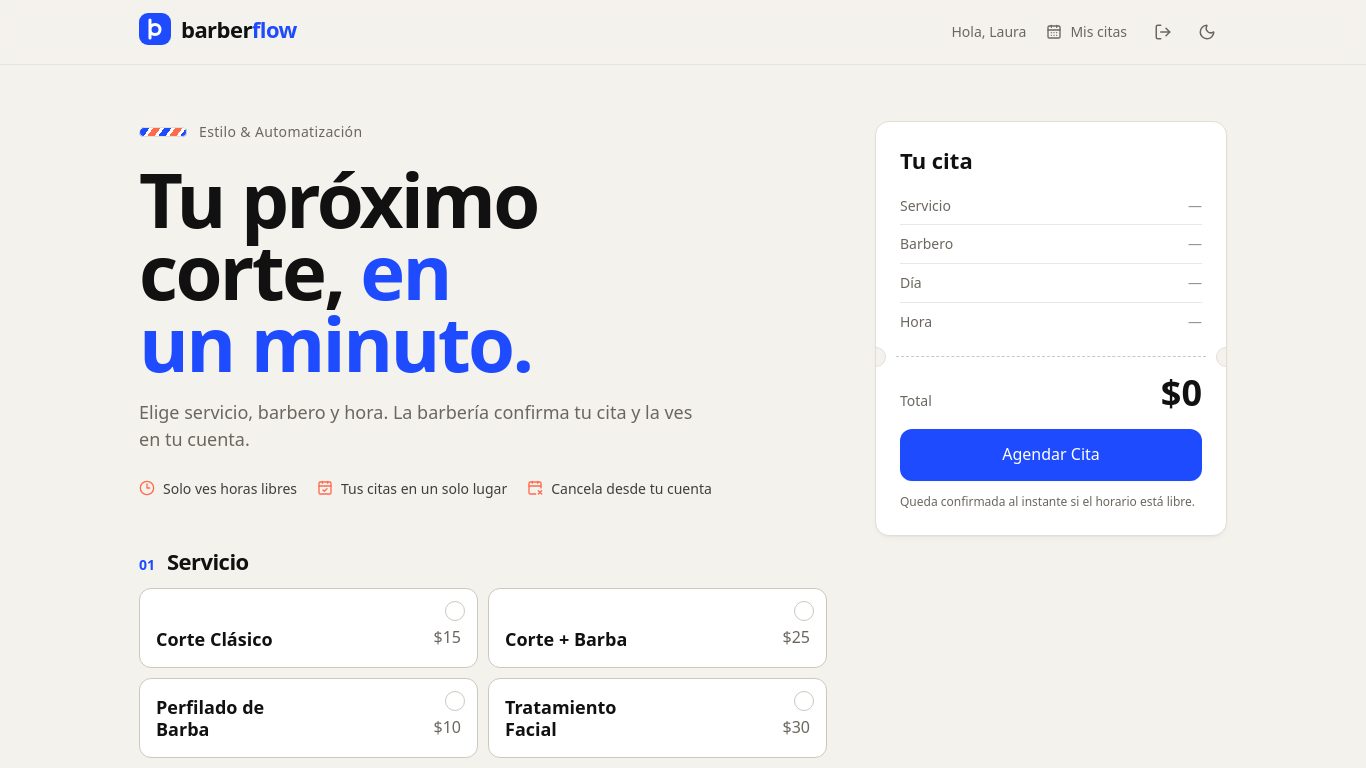
reserva con sesión › crea la cita confirmada en Firestore con los datos del perfil
This screenshot has width=1366, height=768.
Click the radio button labelled "Corte + Barba $25" at (566, 639), box [488, 588, 827, 668]
(page scrolled)
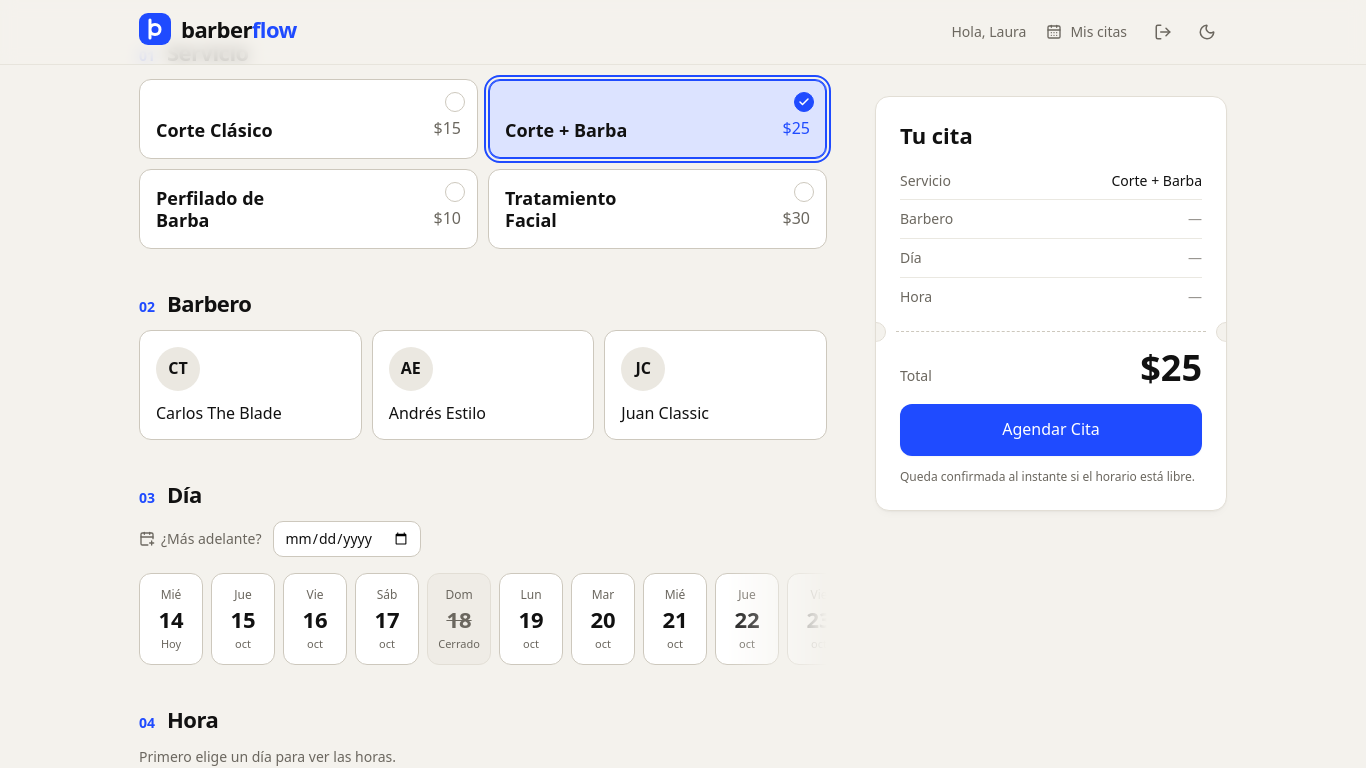
Click the radio button labelled "Andrés Estilo" at (483, 385), box [372, 330, 594, 440]
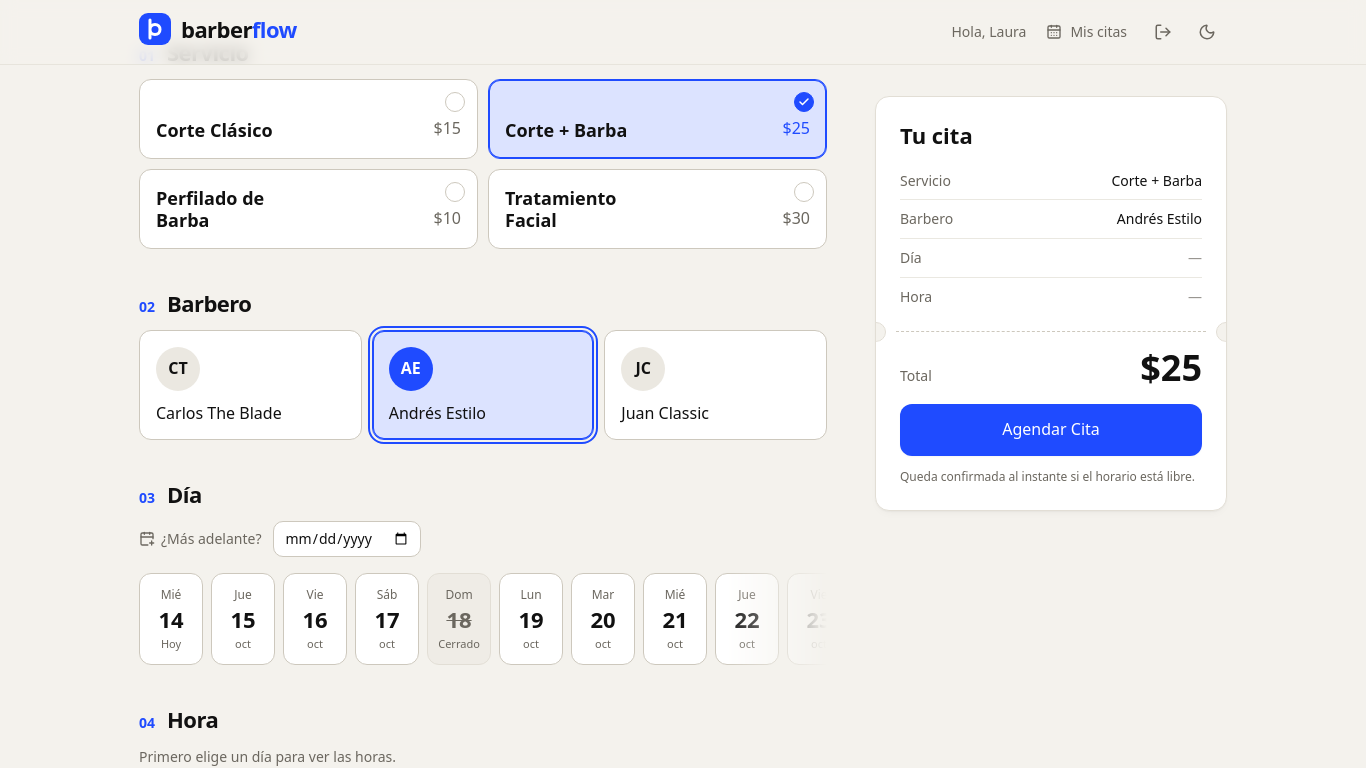
Click the radio button with aria-label "jueves 15 de octubre" at (243, 619), box [211, 572, 275, 665]
(page scrolled)
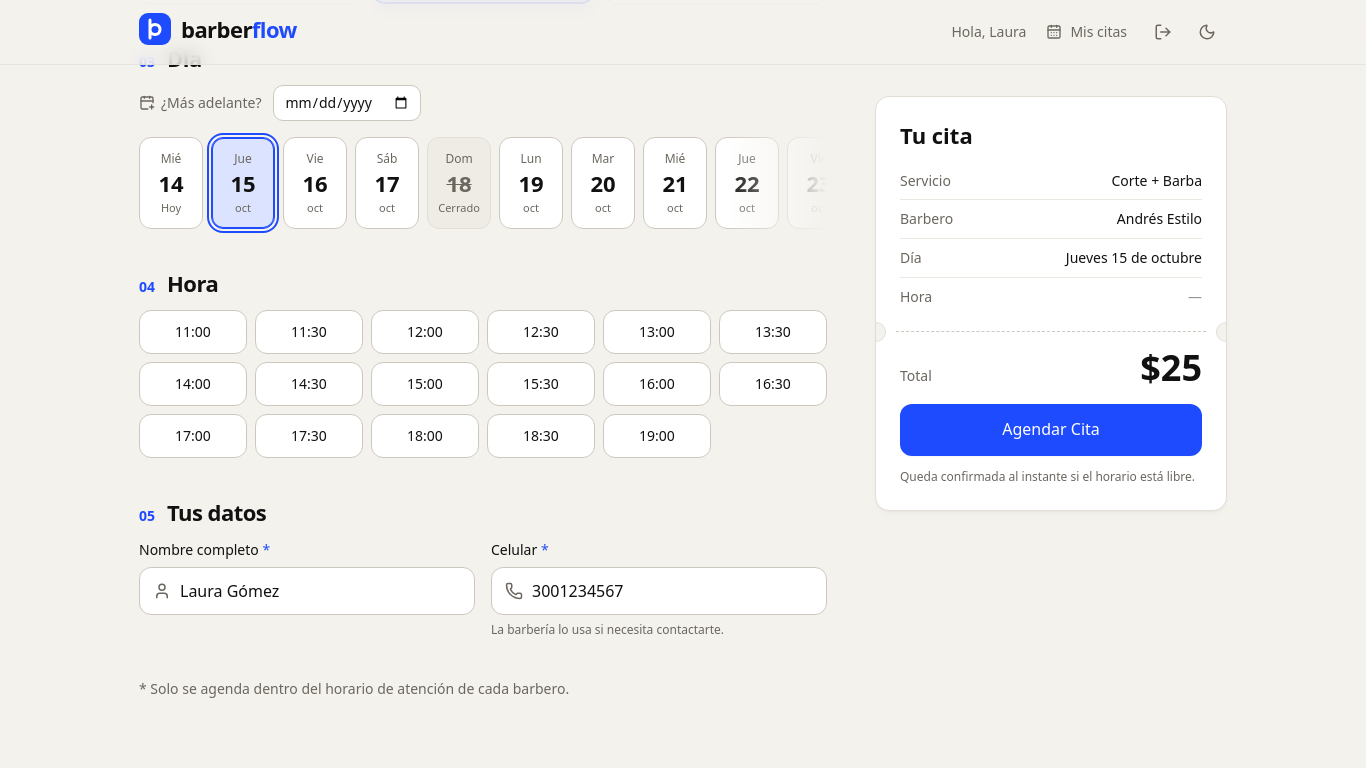
Click the radio button labelled "16:30" at (773, 384), box [719, 362, 827, 406]
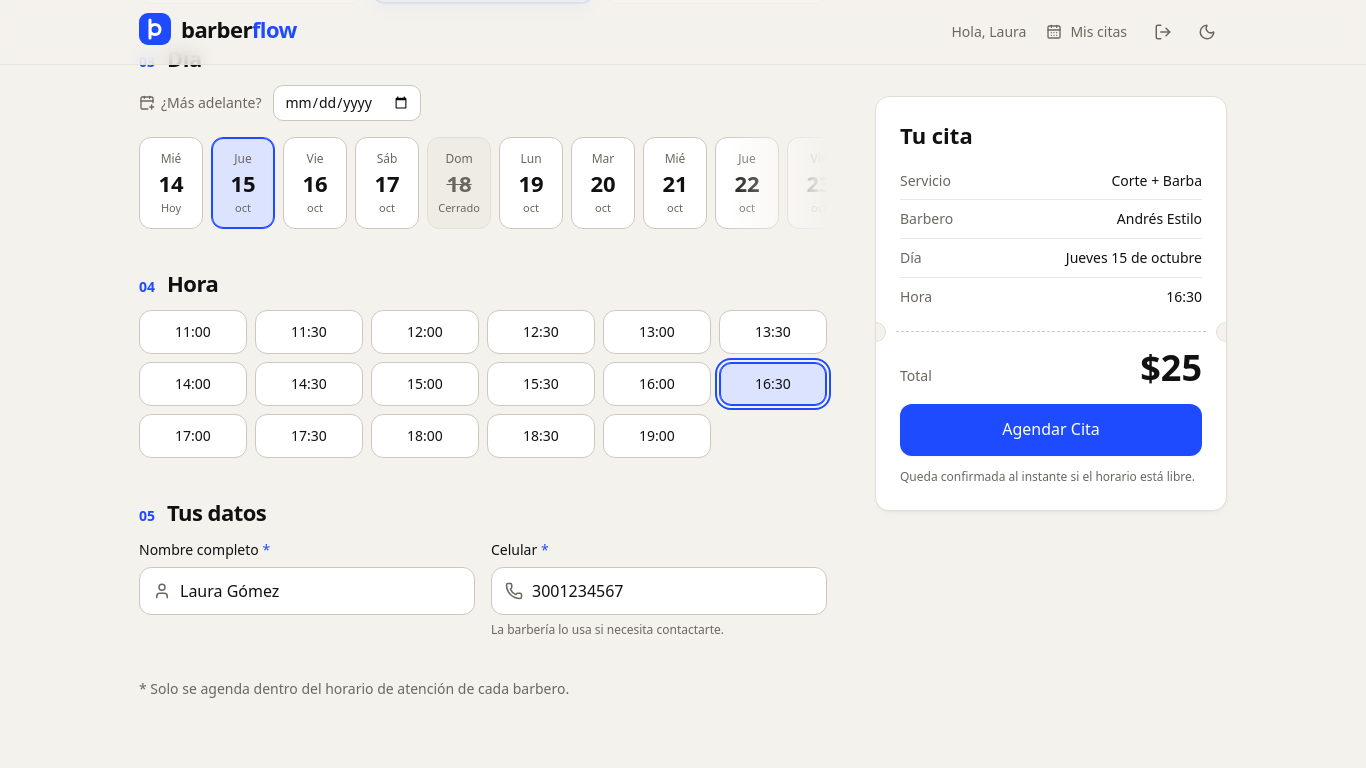
Expected: the field labelled "Celular *" holds "3001234567", [491, 567, 827, 615]
Click the button "Agendar Cita" at (1051, 430), box [900, 404, 1202, 456]
(page scrolled)
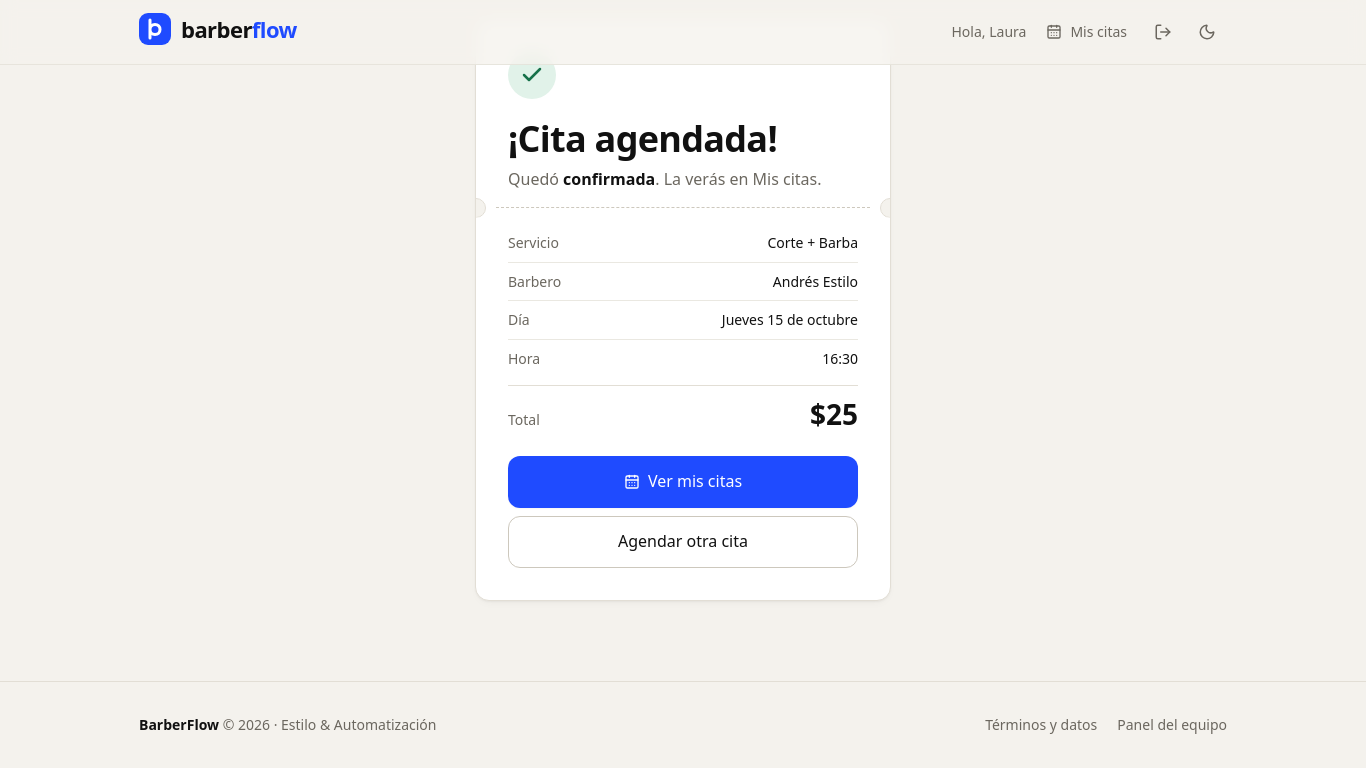
Expected: the heading "¡Cita agendada!" is shown, [508, 114, 777, 163]
